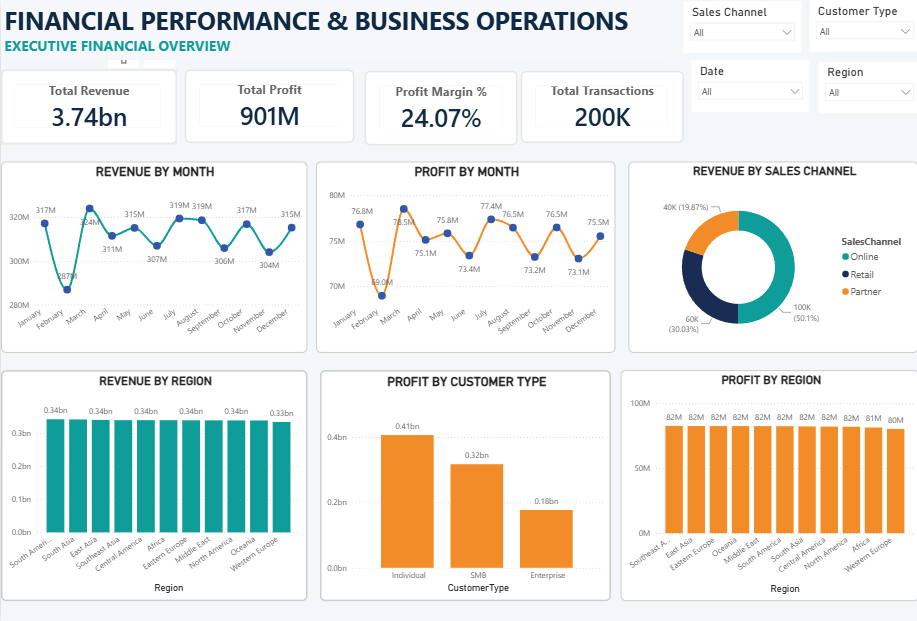

Layout of this report page (visuals, bound fields, positions):
{"tool":"powerbi","page":{"name":"EXECUTIVE SUMMARY","canvas":[1400,950],"ordinal":0},"visuals":[{"type":"cardVisual","fields":{"Data":["MEASURE TABLE.Total Revenue"]},"box":[0,106.7,268.3,113.3],"z":0},{"type":"cardVisual","fields":{"Data":["MEASURE TABLE.Total Profit"]},"box":[280,106.7,258.3,111.7],"z":1000},{"type":"cardVisual","fields":{"Data":["MEASURE TABLE.Total Transactions"]},"box":[791.7,108.3,248.3,110],"z":2000},{"type":"cardVisual","fields":{"Data":["MEASURE TABLE.Profit Margin %"]},"box":[553.3,108.3,233.3,113.3],"z":3000},{"type":"lineChart","title":"REVENUE BY MONTH","fields":{"Category":["CALENDAR.MonthName"],"Y":["MEASURE TABLE.Total Revenue"]},"box":[0,245,466.7,291.7],"z":4000},{"type":"lineChart","title":"PROFIT BY MONTH","fields":{"Y":["MEASURE TABLE.Total Profit"],"Category":["CALENDAR.MonthName"]},"box":[480,245,456.7,291.7],"z":5000},{"type":"columnChart","title":"REVENUE BY REGION","fields":{"Category":["REGIONS.Region"],"Y":["MEASURE TABLE.Total Revenue"]},"box":[0,563.3,466.7,351.7],"z":6000},{"type":"columnChart","title":"PROFIT BY REGION","fields":{"Category":["REGIONS.Region"],"Y":["MEASURE TABLE.Total Profit"]},"box":[943.3,563.3,456.7,351.7],"z":7000},{"type":"textbox","box":[0,0,1021.7,91.7],"z":8000},{"type":"donutChart","title":"REVENUE BY SALES CHANNEL","fields":{"Y":["MEASURE TABLE.Total Transactions"],"Category":["FINANCIAL TRANSACTION.SalesChannel"]},"box":[956.7,245,443.3,291.7],"z":9000},{"type":"slicer","fields":{"Values":["CALENDAR.Date"]},"box":[1051.7,91.7,180,78.3],"z":10000},{"type":"slicer","fields":{"Values":["REGIONS.Region"]},"box":[1245,93.3,155,78.3],"z":11000},{"type":"slicer","fields":{"Values":["FINANCIAL TRANSACTION.SalesChannel"]},"box":[1040,1.7,180,78.3],"z":12000},{"type":"slicer","fields":{"Values":["FINANCIAL TRANSACTION.CustomerType"]},"box":[1231.7,0,168.3,78.3],"z":13000},{"type":"clusteredColumnChart","title":"PROFIT BY CUSTOMER TYPE","fields":{"Category":["CUSTOMER.CustomerType"],"Y":["MEASURE TABLE.Total Profit"]},"box":[486.7,563.3,443.3,351.7],"z":14000}]}

Visuals, with their boxes in screenshot pixels (x1, y1, x2, y2), scaled from the page's 1400x950 canvas onto the 917x621 screenshot:
cardVisual - MEASURE TABLE.Total Revenue: [left=0, top=70, right=176, bottom=144]
cardVisual - MEASURE TABLE.Total Profit: [left=183, top=70, right=353, bottom=143]
cardVisual - MEASURE TABLE.Total Transactions: [left=519, top=71, right=681, bottom=143]
cardVisual - MEASURE TABLE.Profit Margin %: [left=362, top=71, right=515, bottom=145]
"REVENUE BY MONTH" lineChart: [left=0, top=160, right=306, bottom=351]
"PROFIT BY MONTH" lineChart: [left=314, top=160, right=614, bottom=351]
"REVENUE BY REGION" columnChart: [left=0, top=368, right=306, bottom=598]
"PROFIT BY REGION" columnChart: [left=618, top=368, right=916, bottom=598]
textbox: [left=0, top=0, right=669, bottom=60]
"REVENUE BY SALES CHANNEL" donutChart: [left=627, top=160, right=916, bottom=351]
slicer - CALENDAR.Date: [left=689, top=60, right=807, bottom=111]
slicer - REGIONS.Region: [left=815, top=61, right=916, bottom=112]
slicer - FINANCIAL TRANSACTION.SalesChannel: [left=681, top=1, right=799, bottom=52]
slicer - FINANCIAL TRANSACTION.CustomerType: [left=807, top=0, right=916, bottom=51]
"PROFIT BY CUSTOMER TYPE" clusteredColumnChart: [left=319, top=368, right=609, bottom=598]
